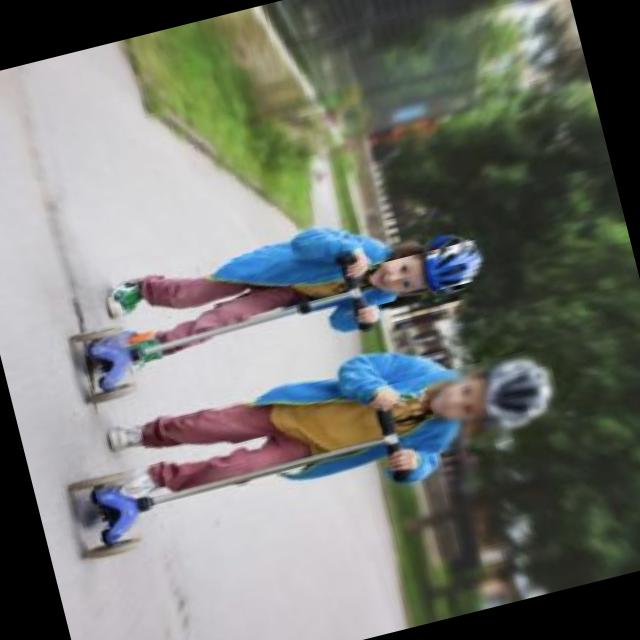With Helmet: (421, 344, 565, 456), (362, 215, 490, 318)
